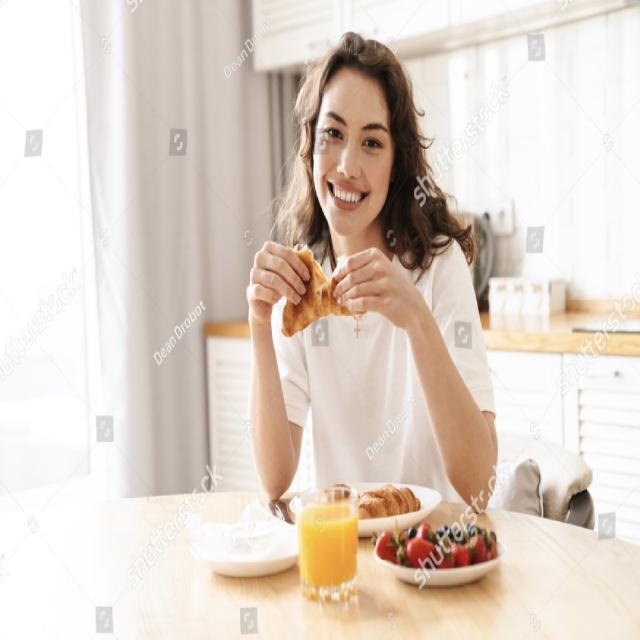eating-person: (182, 21, 508, 607)
